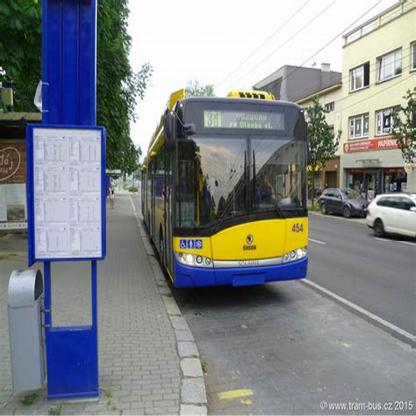bus: (142, 96, 309, 289)
car: (368, 191, 416, 243), (317, 190, 368, 221)
